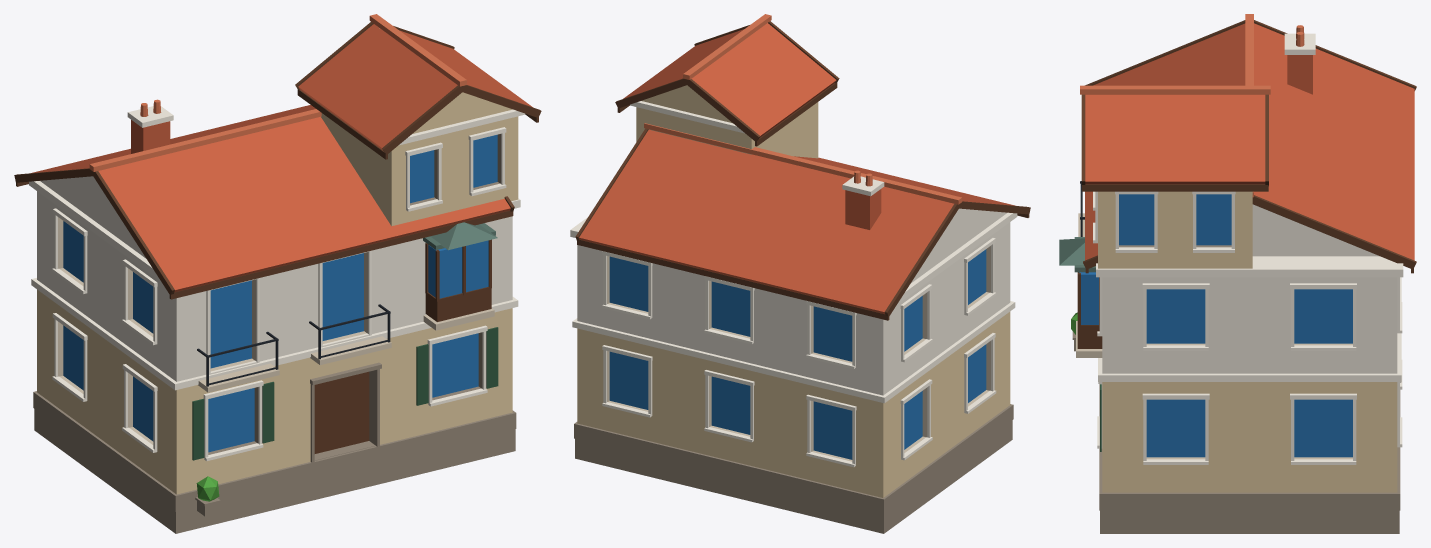
File: 01_casco_house-lod1.glb
3 renders of one model, left to right at view 1: azimuth 30°, elevation 25°; view 2: azimuth 150°, elevation 25°; view 3: azimuth 270°, elevation 25°, orthographic. The views are drawn at different scales.
Parts seen in each view (by area): view 1: CasaHistorica_LOD1; view 2: CasaHistorica_LOD1; view 3: CasaHistorica_LOD1.
Part boxes in pixels (x1,y1,x2,y2): CasaHistorica_LOD1: [14, 14, 541, 533]; CasaHistorica_LOD1: [570, 14, 1030, 533]; CasaHistorica_LOD1: [1059, 14, 1416, 533].
Size of the model in its own units: 12.56 by 12.71 by 9.92.
Materials: 2 (2 with a texture image).
